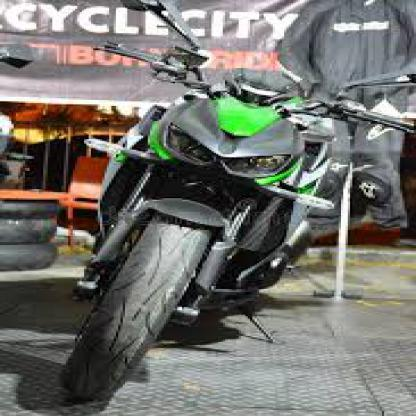Motorcycle: (54, 1, 393, 416)
